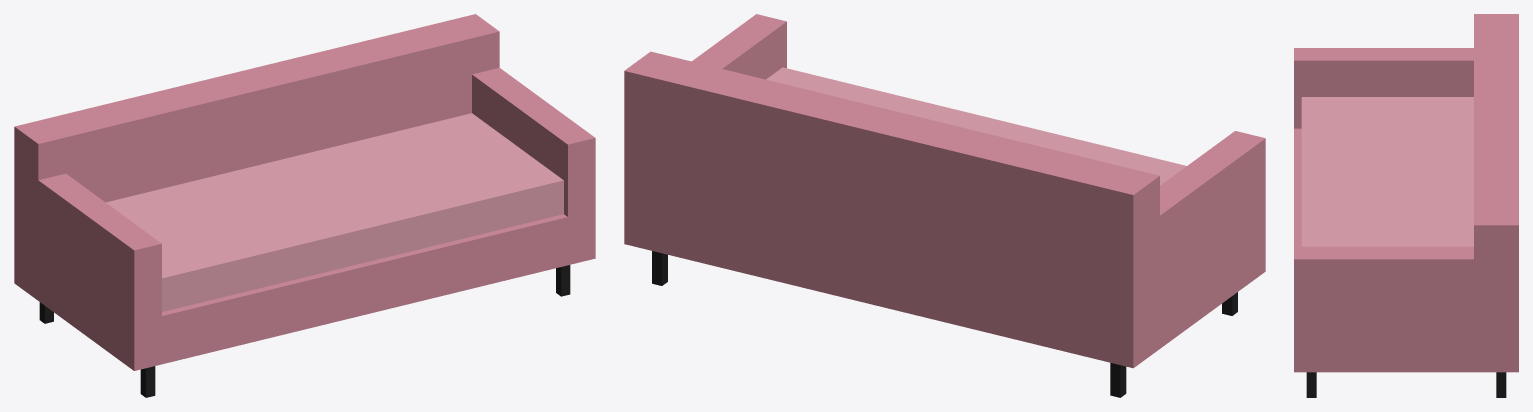
File: sofa-3seat.glb
3 views of the same model, side by side, from view 1: azimuth 30°, elevation 25°; view 2: azimuth 150°, elevation 25°; view 3: azimuth 270°, elevation 25° (orthographic). The views are drawn at different scales.
Size of the model in its own units: 2 by 0.8 by 0.9.
